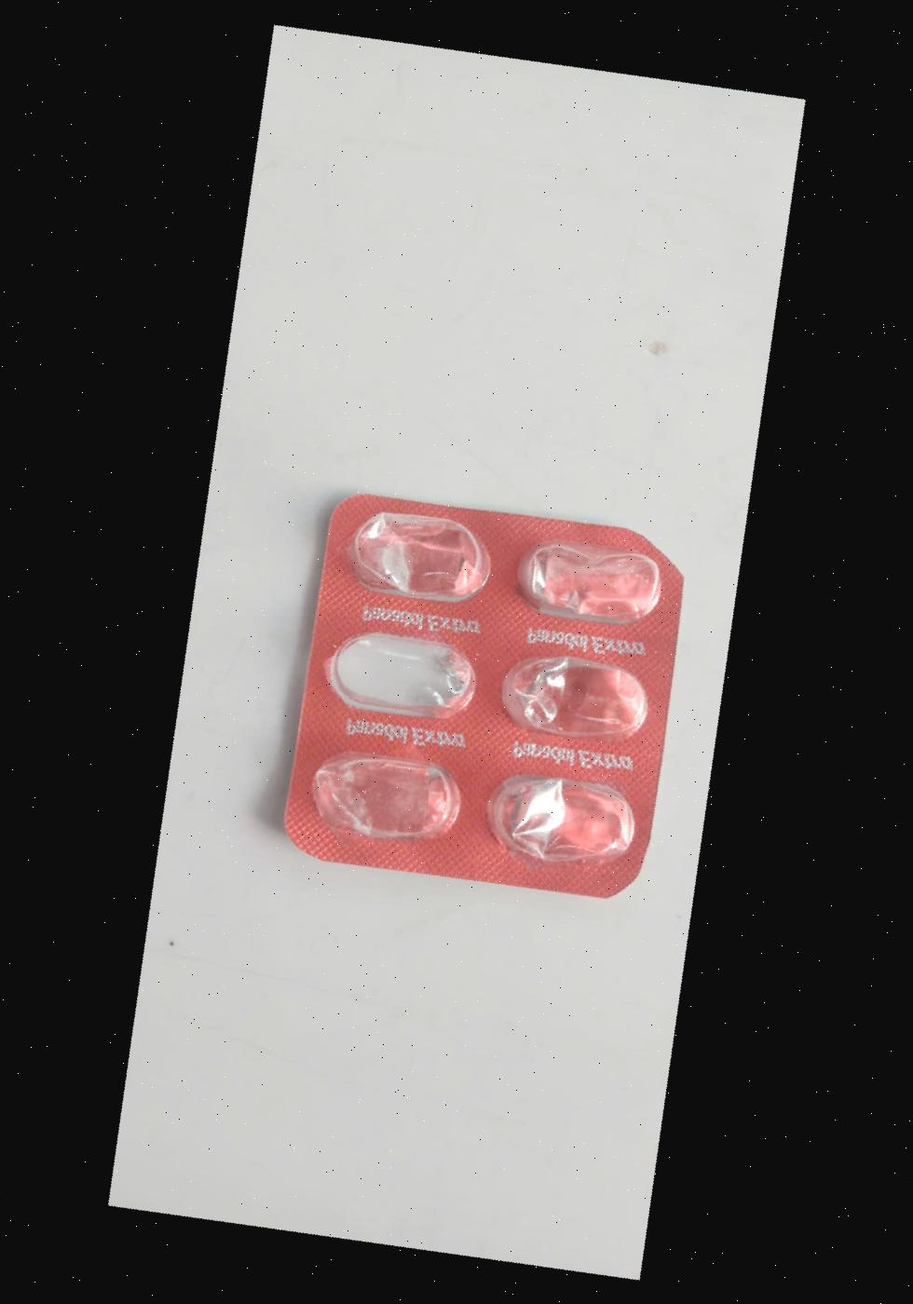Empty: (300, 739, 473, 852), (473, 760, 646, 873), (330, 499, 502, 612), (314, 618, 486, 731), (500, 525, 672, 638), (489, 640, 661, 753)
